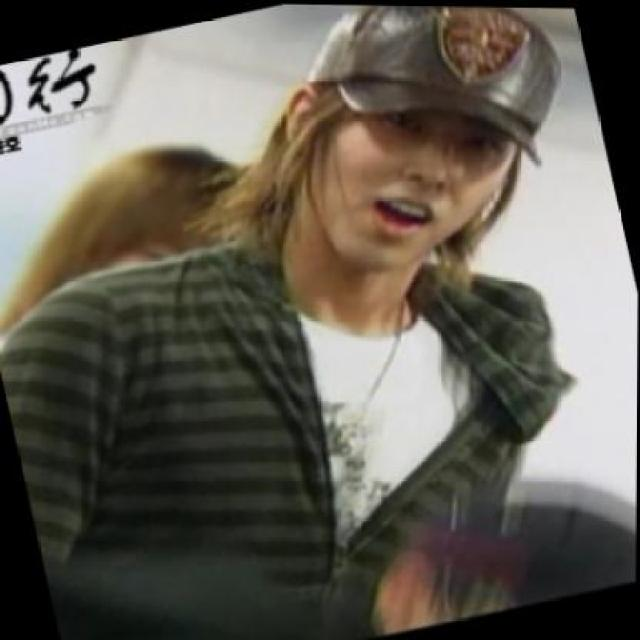hat: (289, 4, 588, 221)
